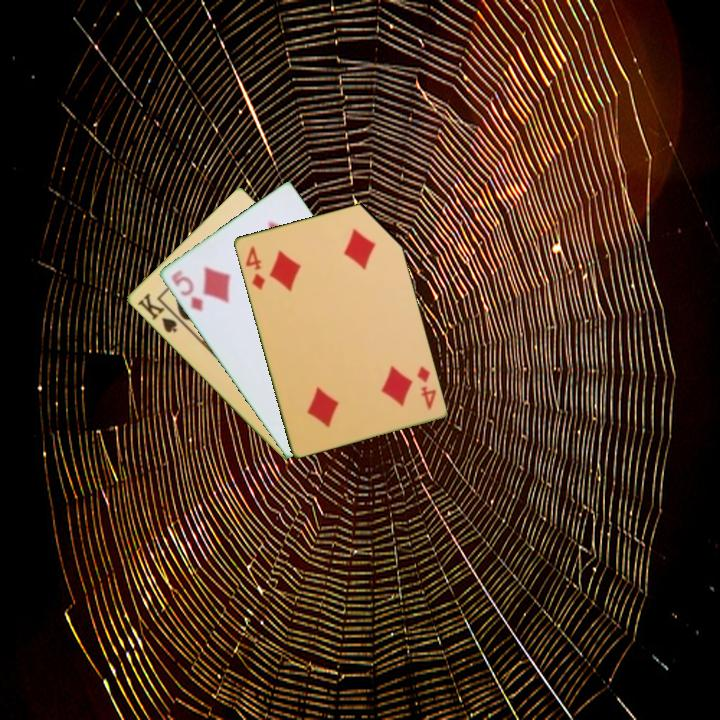4d: (241, 242, 268, 292), (413, 362, 439, 413)
5d: (167, 266, 205, 315)
Ks: (133, 289, 180, 336)
